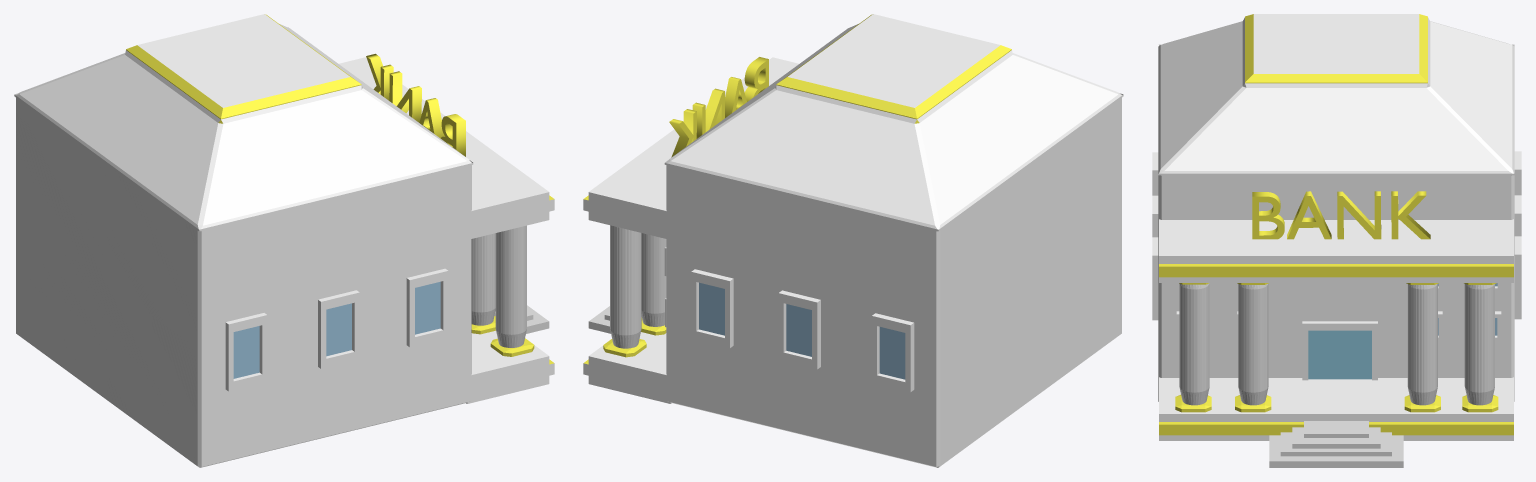
The model's file is Bank.fbx.
The picture shows the model from 3 angles, left to right: view 1: azimuth 30°, elevation 25°; view 2: azimuth 150°, elevation 25°; view 3: azimuth 270°, elevation 25°; orthographic projection. The views are drawn at different scales.
Visible parts, largest first — view 1: Cube, Cube.001, Cube.020, Cylinder, BANK, Cube.004; view 2: Cube, Cube.001, Cube.020, Cylinder, BANK, Cube.004; view 3: Cube, Cube.001, Cylinder, Cube.015, BANK, Cube.020, Cube.014, Cube.004, Cube.011, Cube.012, Cube.013.
Boxes of the visible parts, bbox=[...] form: Cube: bbox=[14, 14, 473, 467]; Cube.001: bbox=[338, 57, 554, 403]; Cube.020: bbox=[225, 268, 448, 391]; Cylinder: bbox=[471, 225, 526, 347]; BANK: bbox=[366, 53, 465, 156]; Cube.004: bbox=[471, 316, 534, 356]; Cube: bbox=[664, 14, 1123, 467]; Cube.001: bbox=[583, 57, 799, 403]; Cube.020: bbox=[664, 247, 914, 392]; Cylinder: bbox=[610, 225, 666, 348]; BANK: bbox=[669, 57, 768, 157]; Cube.004: bbox=[603, 317, 666, 357]; Cube: bbox=[1158, 14, 1514, 401]; Cube.001: bbox=[1159, 219, 1513, 440]; Cylinder: bbox=[1179, 283, 1494, 405]; Cube.015: bbox=[1302, 321, 1377, 380]; BANK: bbox=[1252, 191, 1430, 239]; Cube.020: bbox=[1152, 151, 1521, 341]; Cube.014: bbox=[1269, 435, 1403, 467]; Cube.004: bbox=[1175, 283, 1498, 412]; Cube.011: bbox=[1280, 432, 1391, 456]; Cube.012: bbox=[1292, 427, 1380, 448]; Cube.013: bbox=[1304, 421, 1368, 437].
Bounding box in the file's own units: 3053 × 2204 × 2486.
